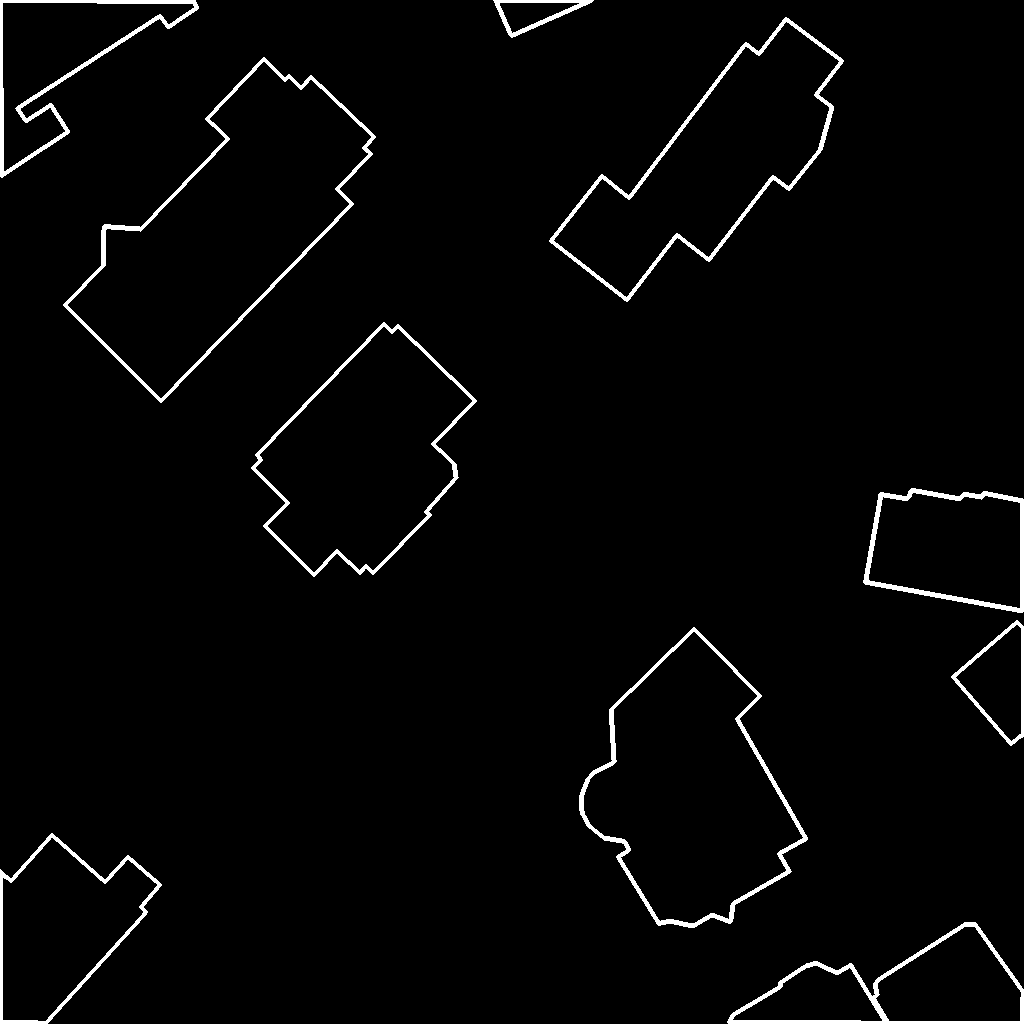building: (65, 59, 375, 402), (551, 19, 843, 301), (581, 629, 807, 927), (253, 324, 476, 576), (0, 0, 198, 177), (0, 835, 161, 1024), (865, 490, 1024, 612), (873, 924, 1024, 1024), (729, 963, 888, 1024), (953, 622, 1024, 745), (495, 0, 594, 37)
